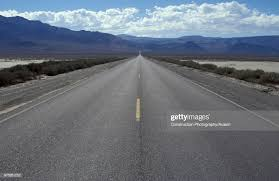strada: (3, 77, 274, 181)
